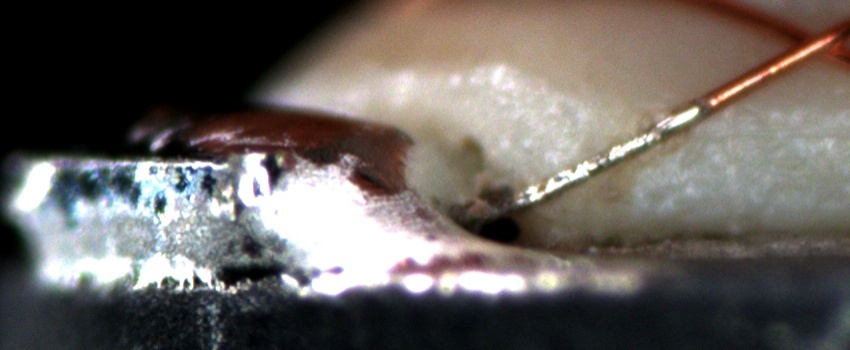CL: (766, 12, 844, 74)
DL: (685, 104, 850, 168)
TS: (465, 101, 709, 225)
